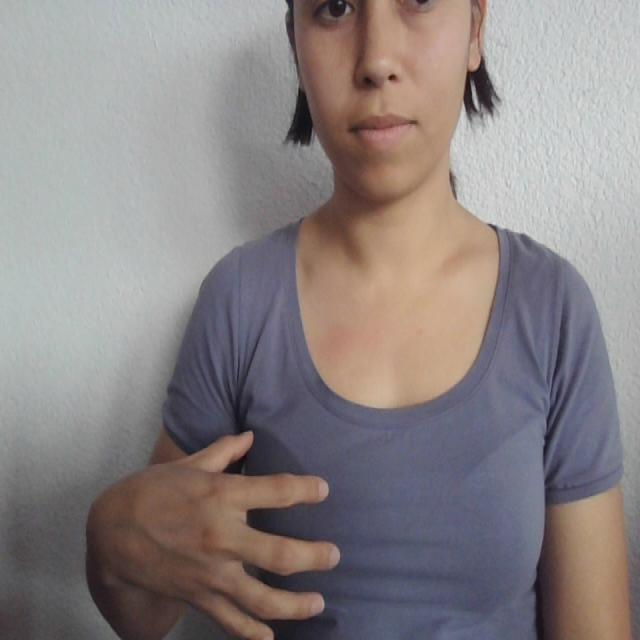Anne: (113, 415, 542, 640)
